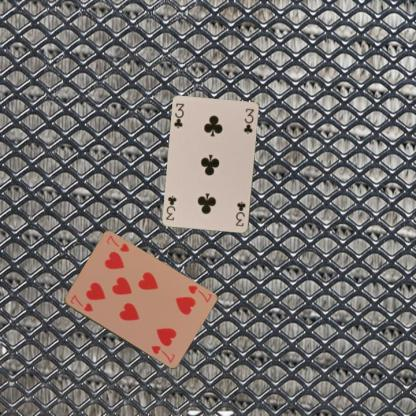3c: (233, 198, 247, 228), (172, 101, 186, 130)
7h: (185, 282, 213, 303), (67, 292, 94, 313)
